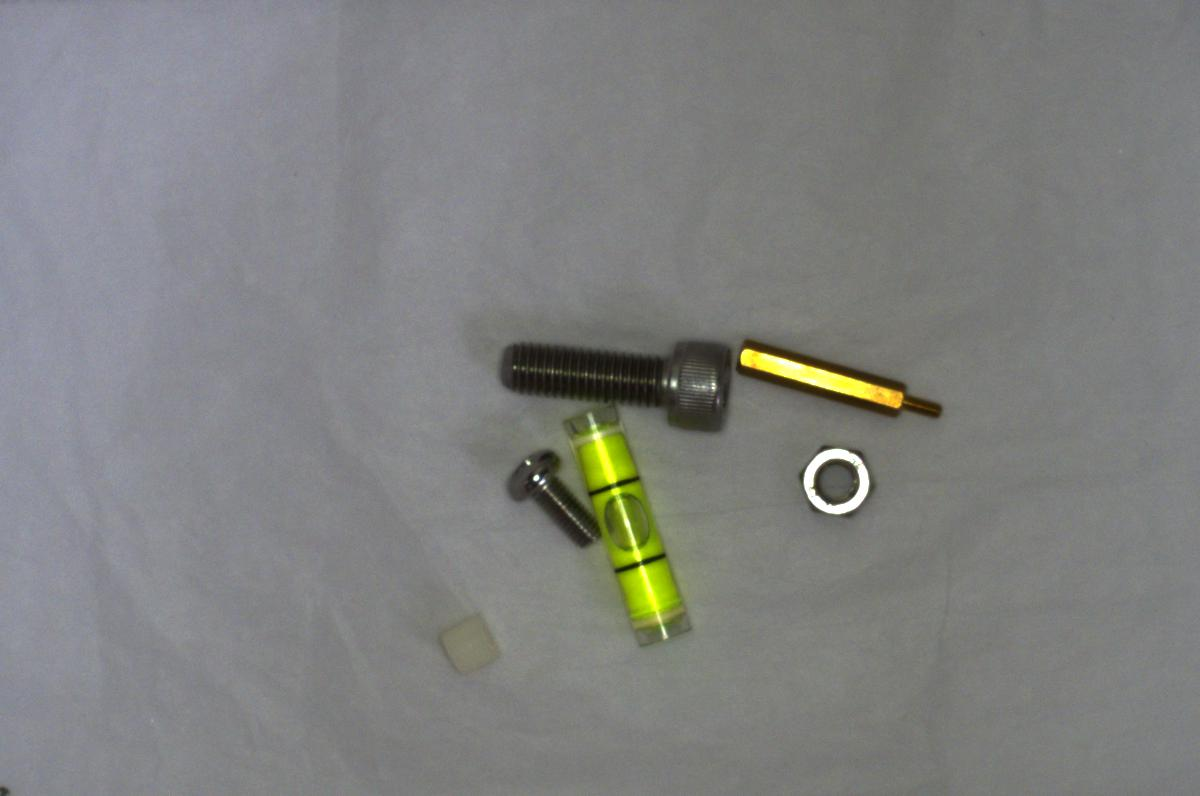Hexagon nut: (791, 430, 882, 526)
Hexagon pillar: (722, 338, 952, 426)
Hexagon screw: (488, 322, 741, 438)
Horizontal bubble: (551, 400, 694, 652)
Plastic cushion pillar: (434, 606, 510, 680)
Round head screw: (504, 443, 605, 550)
